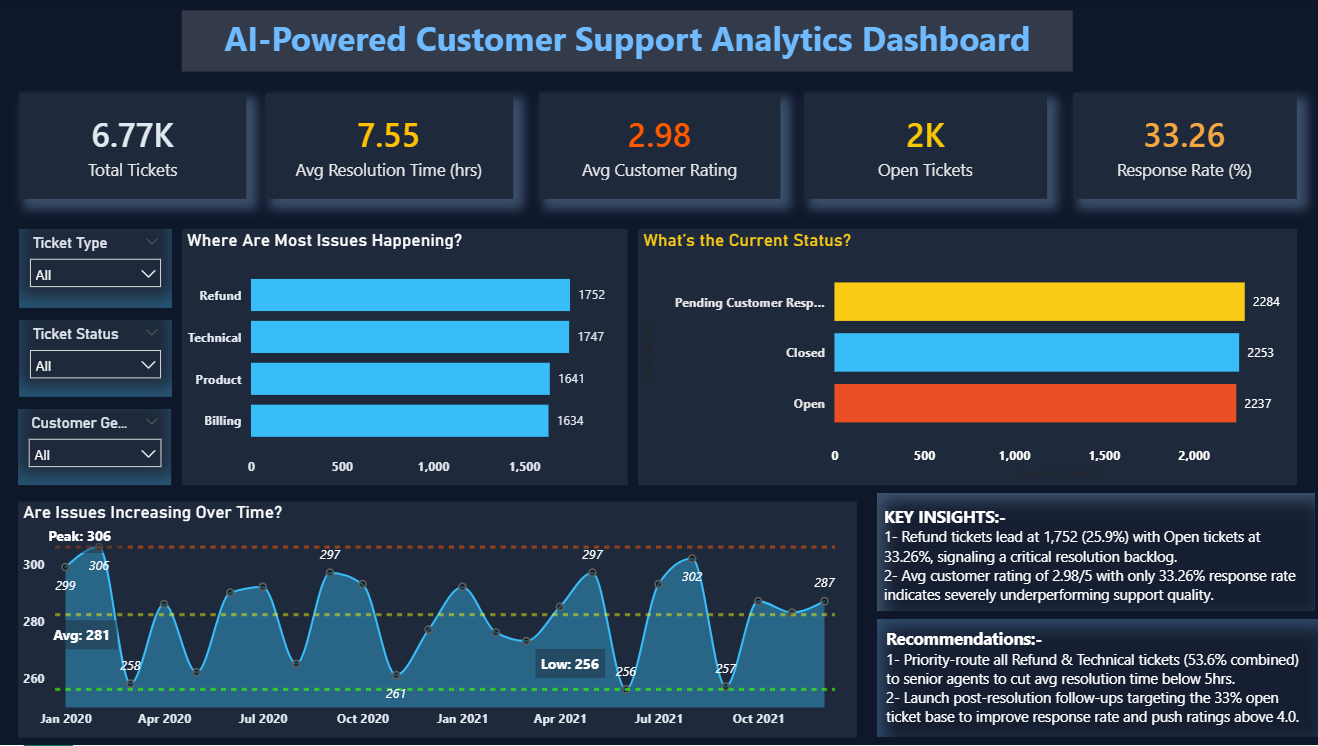

This screenshot's page, from the dashboard's own definition file:
{"tool":"powerbi","page":{"name":"Customer Support Analysis","canvas":[1280,720],"ordinal":0},"visuals":[{"type":"textbox","box":[177.3,10.9,860.2,59.1],"z":0},{"type":"cardVisual","fields":{"Data":["cleaned_tickets.Avg Rating Clean"]},"box":[522.4,90.5,232.8,102.5],"z":1000},{"type":"cardVisual","fields":{"Data":["cleaned_tickets.Open Tickets"]},"box":[778.2,90.5,234,102.5],"z":2000},{"type":"cardVisual","fields":{"Data":["cleaned_tickets.Total Tickets"]},"box":[20.5,90.5,219.6,102.5],"z":3000},{"type":"cardVisual","fields":{"Data":["cleaned_tickets.Avg Resolution Time"]},"box":[258.2,90.5,238.9,102.5],"z":4000},{"type":"clusteredBarChart","title":"Where Are Most Issues Happening?","fields":{"Category":["cleaned_tickets.Ticket Type"],"Y":["CountNonNull(cleaned_tickets.Ticket ID)"]},"box":[177.3,222,430.7,247.3],"z":5000},{"type":"barChart","title":"What’s the Current Status?","fields":{"Category":["cleaned_tickets.Ticket Status"],"Y":["CountNonNull(cleaned_tickets.Ticket ID)"]},"box":[617.7,222,635.8,247.3],"z":6000},{"type":"areaChart","title":"Are Issues Increasing Over Time?","fields":{"Category":["cleaned_tickets.Date of Purchase.Variation.Date Hierarchy.Year","cleaned_tickets.Date of Purchase.Variation.Date Hierarchy.Month"],"Y":["CountNonNull(cleaned_tickets.Ticket ID)"]},"box":[19.3,485,809.5,228],"z":7000},{"type":"slicer","title":"Where Are Most Issues Happening?","fields":{"Values":["cleaned_tickets.Ticket Status"]},"box":[20.5,310.1,147.2,73.6],"z":8000},{"type":"slicer","title":"Where Are Most Issues Happening?","fields":{"Values":["cleaned_tickets.Customer Gender"]},"box":[19.3,395.7,148.4,73.6],"z":9000},{"type":"slicer","title":"Where Are Most Issues Happening?","fields":{"Values":["cleaned_tickets.Ticket Type"]},"box":[20.5,222,147.2,76],"z":10000},{"type":"textbox","box":[848,477,423.5,114.6],"z":11000},{"type":"cardVisual","fields":{"Data":["cleaned_tickets.Response Rate (%)"]},"box":[1037.5,90.5,216,102.5],"z":12000},{"type":"textbox","box":[848.1,598,427.1,113.4],"z":13000},{"type":"textbox","box":[43.4,504.3,77.2,30.2],"z":14000},{"type":"textbox","box":[48.3,599.6,67.6,27.7],"z":15000},{"type":"textbox","box":[518.8,627.3,67.6,27.7],"z":16000}]}

Visuals, with their boxes in screenshot pixels (x1, y1, x2, y2), scaled from the page's 1280x720 canvas onto the 1318x746 screenshot:
textbox: <box>183,11,1068,73</box>
cardVisual - cleaned_tickets.Avg Rating Clean: <box>538,94,778,200</box>
cardVisual - cleaned_tickets.Open Tickets: <box>801,94,1042,200</box>
cardVisual - cleaned_tickets.Total Tickets: <box>21,94,247,200</box>
cardVisual - cleaned_tickets.Avg Resolution Time: <box>266,94,512,200</box>
"Where Are Most Issues Happening?" clusteredBarChart: <box>183,230,626,486</box>
"What’s the Current Status?" barChart: <box>636,230,1291,486</box>
"Are Issues Increasing Over Time?" areaChart: <box>20,503,853,739</box>
"Where Are Most Issues Happening?" slicer: <box>21,321,173,398</box>
"Where Are Most Issues Happening?" slicer: <box>20,410,173,486</box>
"Where Are Most Issues Happening?" slicer: <box>21,230,173,309</box>
textbox: <box>873,494,1309,613</box>
cardVisual - cleaned_tickets.Response Rate (%): <box>1068,94,1291,200</box>
textbox: <box>873,620,1313,737</box>
textbox: <box>45,523,124,554</box>
textbox: <box>50,621,119,650</box>
textbox: <box>534,650,604,679</box>
